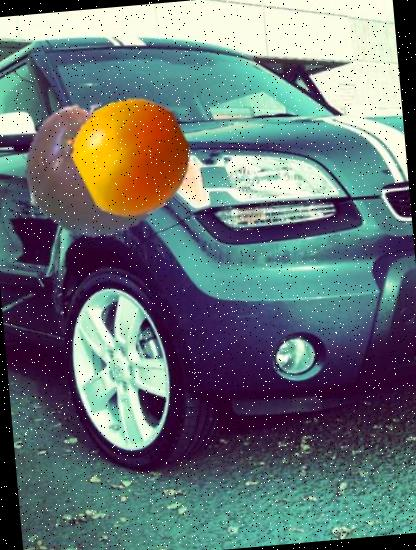Cherry: (71, 94, 197, 220)
Passion: (20, 92, 174, 246)
